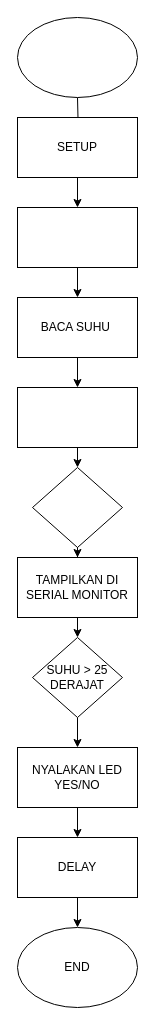
This 155x1025 diagram has some shape labels left out. Here are the shapes that lost their labels. From the top down, the centre of each, then its label:
At [77,57]: "START".
At [77,237]: "LOOP".
At [77,417]: "BACA KELEMBABAN".
At [77,507]: "CHECK ERROR YES/NO".
